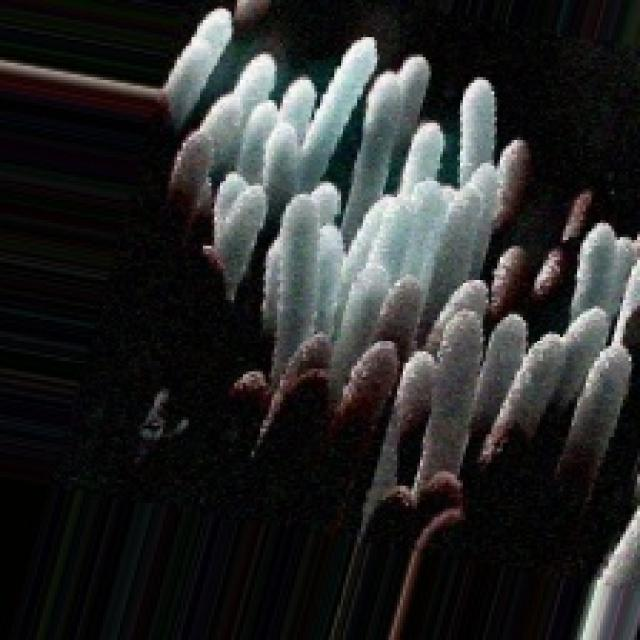Rod_bacteria: (12, 0, 637, 637)
